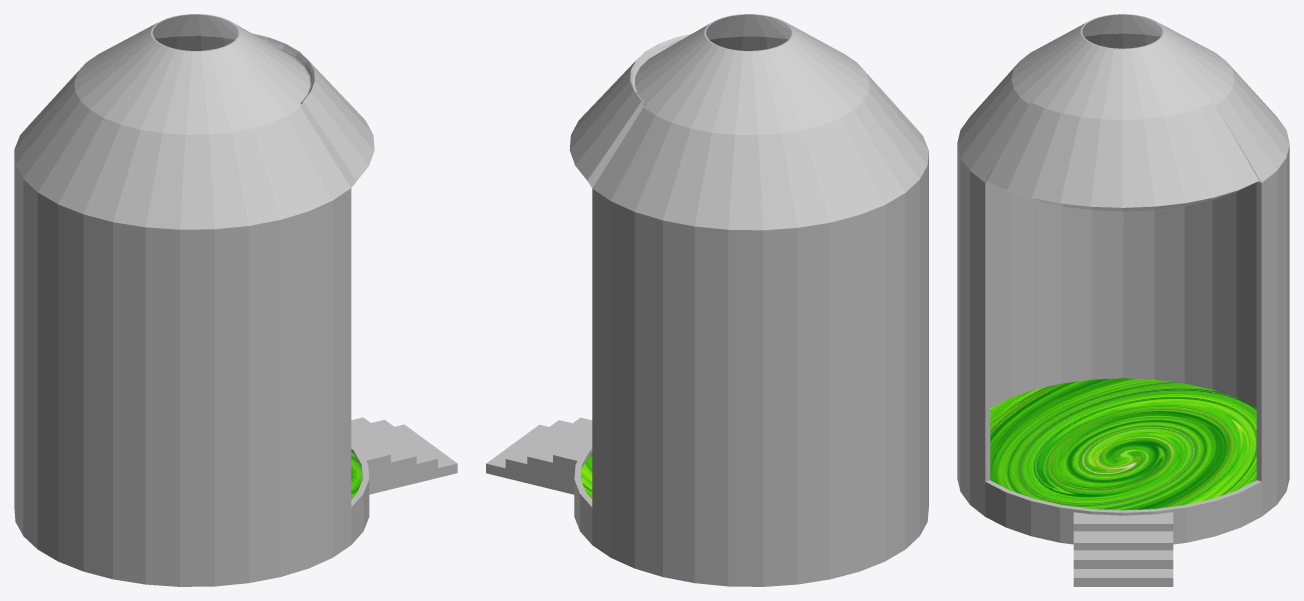
File: Teleporter3.fbx
3 renders of one model, left to right at view 1: azimuth 30°, elevation 25°; view 2: azimuth 150°, elevation 25°; view 3: azimuth 270°, elevation 25°, orthographic. The views are drawn at different scales.
Parts seen in each view (by area): view 1: Cylinder, Cube; view 2: Cylinder, Cube; view 3: Cylinder, Cube.
Part boxes in pixels (bbox=[...]): Cylinder: bbox=[14, 14, 374, 586]; Cube: bbox=[351, 417, 457, 494]; Cylinder: bbox=[569, 14, 928, 586]; Cube: bbox=[486, 417, 592, 494]; Cylinder: bbox=[957, 14, 1289, 544]; Cube: bbox=[1073, 512, 1173, 586].
Bounding box in the file's own units: 2553 × 2970 × 2000.
